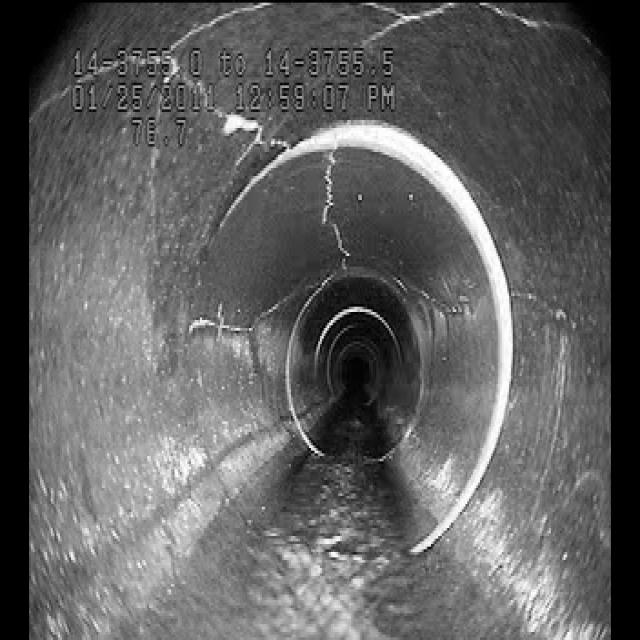Crack: (316, 152, 364, 274)
